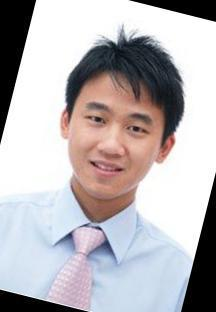Sober: (74, 75, 159, 197)
